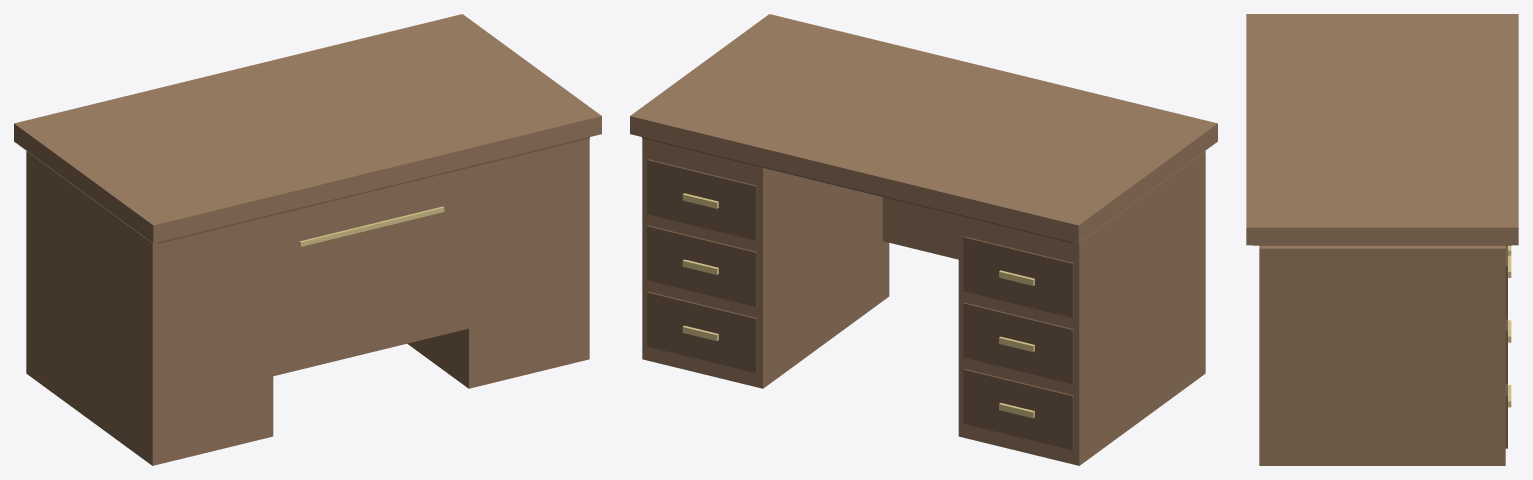
Rendered from desk.glb.
The picture shows the model from 3 angles, left to right: view 1: azimuth 30°, elevation 25°; view 2: azimuth 150°, elevation 25°; view 3: azimuth 270°, elevation 25°; orthographic projection. The views are drawn at different scales.
Visible parts, largest first — view 1: ExecutiveDesk; view 2: ExecutiveDesk; view 3: ExecutiveDesk.
Part boxes in pixels (box(x1,y1,x2,y2)): ExecutiveDesk: box(14, 14, 601, 465); ExecutiveDesk: box(630, 14, 1217, 465); ExecutiveDesk: box(1246, 14, 1518, 465).
Size of the model in its own units: 1.56 by 0.82 by 0.84.
